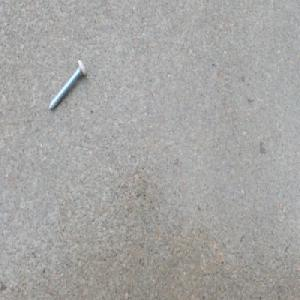Nail: (47, 57, 86, 113)
